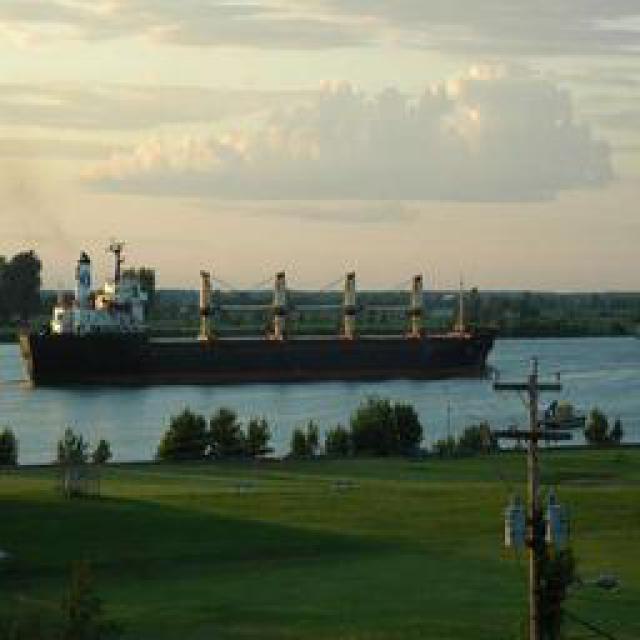Ship: (30, 283, 488, 388)
